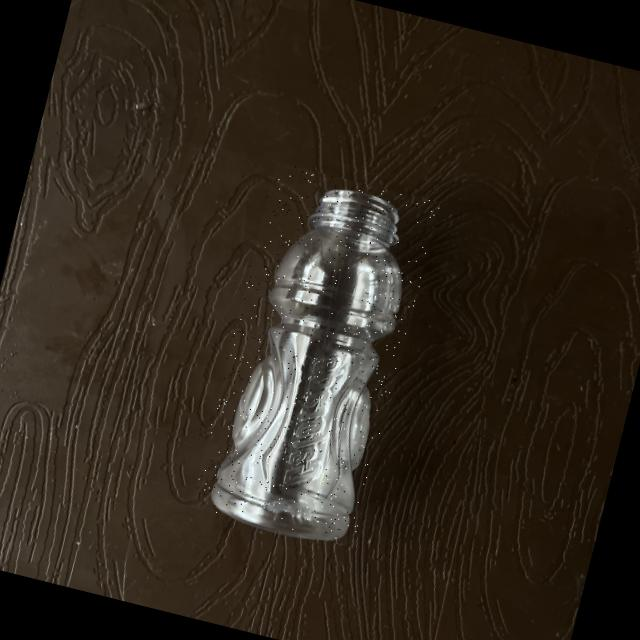PET_ClearBottle: (188, 160, 438, 547)
